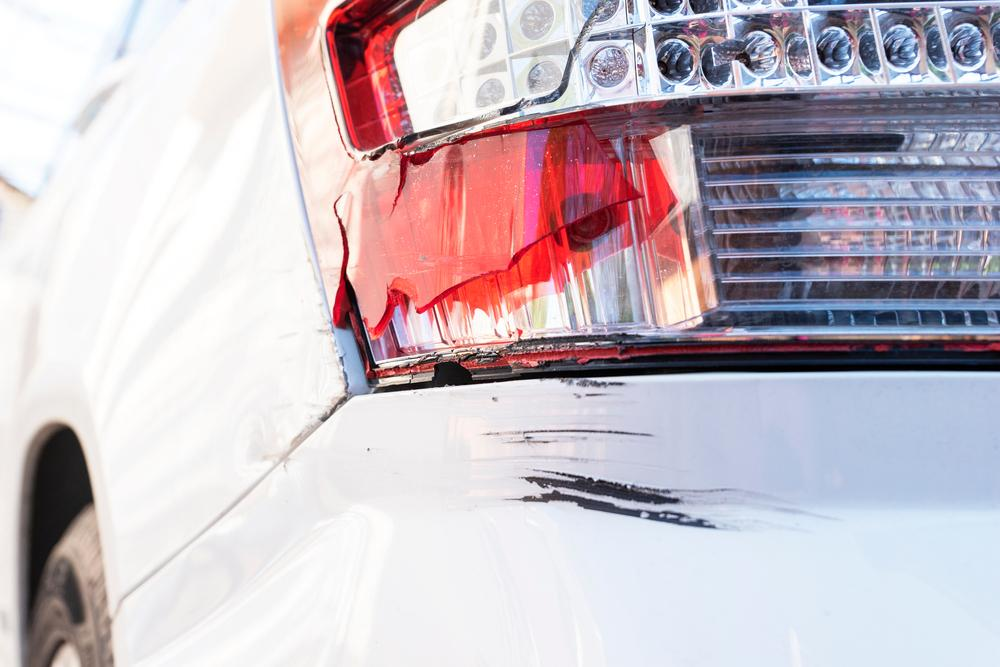scratch: (478, 372, 850, 544), (275, 250, 357, 445)
